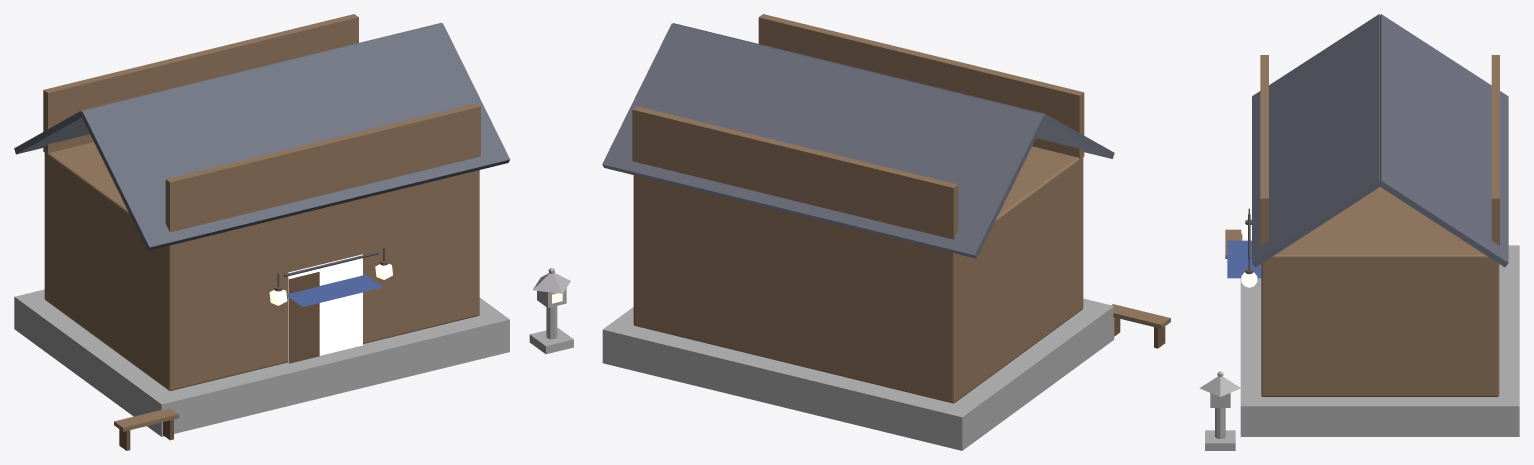
File: cl-sento.glb
The picture shows the model from 3 angles, left to right: view 1: azimuth 30°, elevation 25°; view 2: azimuth 150°, elevation 25°; view 3: azimuth 270°, elevation 25°; orthographic projection. The views are drawn at different scales.
Parts seen in each view (by area): view 1: bt-cl-sento_body, bt-cl-sento_roof1, bt-cl-sento_base, bt-cl-sento_gable1, bt-cl-sento_gable-1, bt-cl-sento_entry, bt-cl-sento_door, bt-cl-sento_roof-1, bt-cl-sento_noren, bt-cl-sento_bench, bt-cl-sento_ish_base, bt-cl-sento_ish_roof; view 2: bt-cl-sento_body, bt-cl-sento_roof-1, bt-cl-sento_base, bt-cl-sento_gable-1, bt-cl-sento_gable1, bt-cl-sento_roof1, bt-cl-sento_bench; view 3: bt-cl-sento_body, bt-cl-sento_roof-1, bt-cl-sento_roof1, bt-cl-sento_base, bt-cl-sento_gable1, bt-cl-sento_gable-1, bt-cl-sento_noren, bt-cl-sento_ish_base, bt-cl-sento_ish_roof, bt-cl-sento_ish_pillar.
Part boxes in pixels (x1,y1,x2,y2): bt-cl-sento_body: (44,142,479,390); bt-cl-sento_roof1: (81,23,510,250); bt-cl-sento_base: (14,289,509,436); bt-cl-sento_gable1: (165,103,480,232); bt-cl-sento_gable-1: (43,14,358,154); bt-cl-sento_entry: (288,254,362,363); bt-cl-sento_door: (288,272,319,363); bt-cl-sento_roof-1: (14,22,442,154); bt-cl-sento_noren: (286,274,382,306); bt-cl-sento_bench: (114,408,178,431); bt-cl-sento_ish_base: (529,327,573,354); bt-cl-sento_ish_roof: (533,273,570,293); bt-cl-sento_body: (633,146,1083,403); bt-cl-sento_roof-1: (602,24,1044,258); bt-cl-sento_base: (602,298,1114,450); bt-cl-sento_gable-1: (632,106,958,239); bt-cl-sento_gable1: (758,14,1084,159); bt-cl-sento_roof1: (672,23,1114,158); bt-cl-sento_bench: (1111,304,1170,328); bt-cl-sento_body: (1261,187,1499,396); bt-cl-sento_roof-1: (1378,14,1508,267); bt-cl-sento_roof1: (1252,14,1381,267); bt-cl-sento_base: (1240,245,1519,436); bt-cl-sento_gable1: (1260,55,1268,245); bt-cl-sento_gable-1: (1491,55,1499,245); bt-cl-sento_noren: (1227,240,1261,278); bt-cl-sento_ish_base: (1205,430,1235,450); bt-cl-sento_ish_roof: (1199,376,1240,396); bt-cl-sento_ish_pillar: (1215,408,1225,438).
Size of the model in its own units: 14.32 by 8.41 by 9.42.
